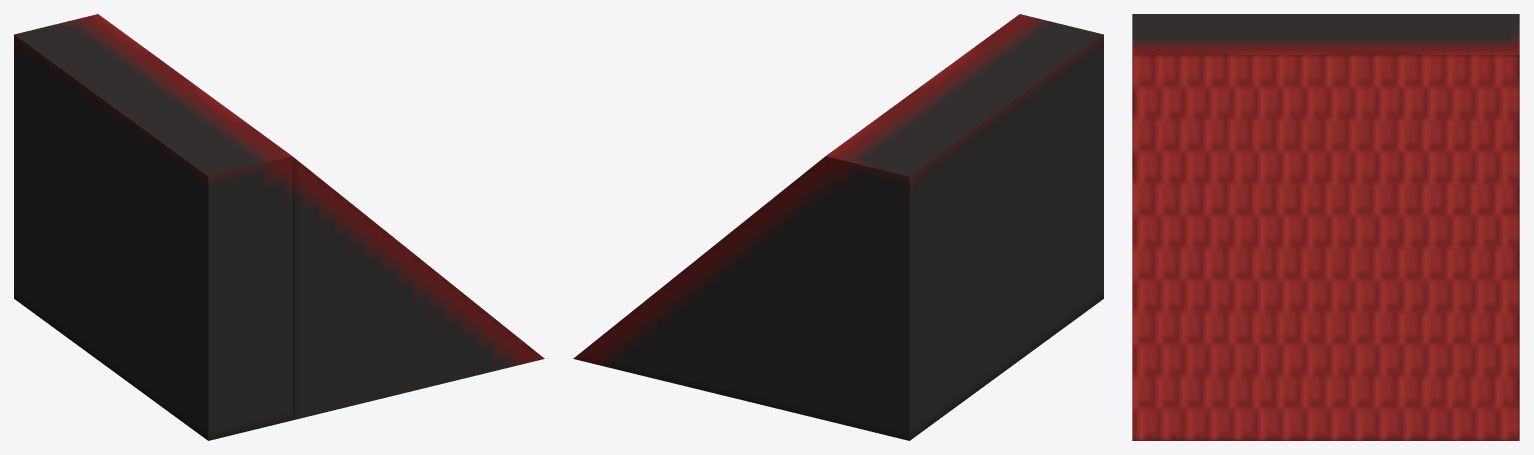
Rendered from Roof_x1.fbx.
The picture shows the model from 3 angles, left to right: view 1: azimuth 30°, elevation 25°; view 2: azimuth 150°, elevation 25°; view 3: azimuth 270°, elevation 25°; orthographic projection.
Parts seen in each view (by area): view 1: Roof_x1; view 2: Roof_x1; view 3: Roof_x1.
Boxes of the visible parts, x1=… form: Roof_x1: x1=14, y1=14, x2=544, y2=440; Roof_x1: x1=573, y1=14, x2=1103, y2=440; Roof_x1: x1=1132, y1=14, x2=1519, y2=440.
Bounding box in the file's own units: 400 × 300 × 400.
1 material, 1 textured.
